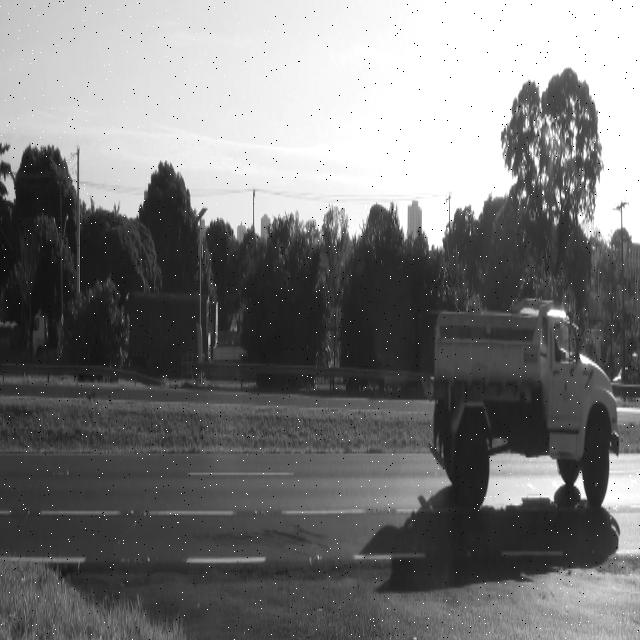-axle: (454, 418, 491, 510), (581, 418, 613, 503)
